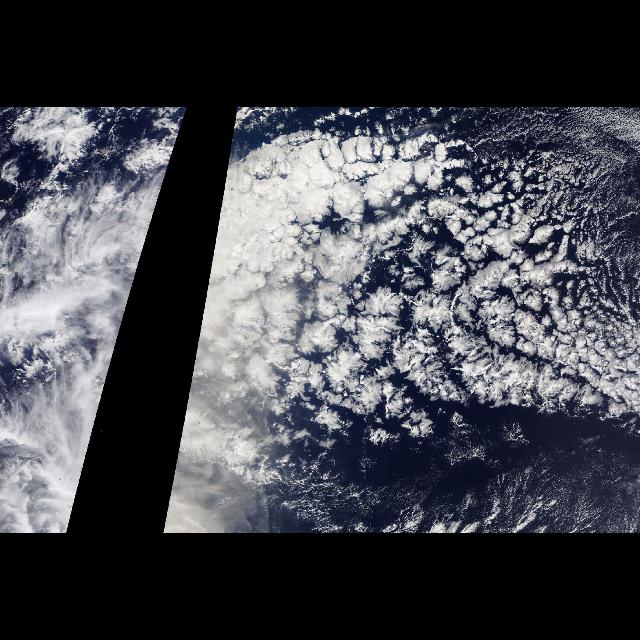Flower: (299, 178, 619, 458)
Sugar: (322, 473, 632, 532)
